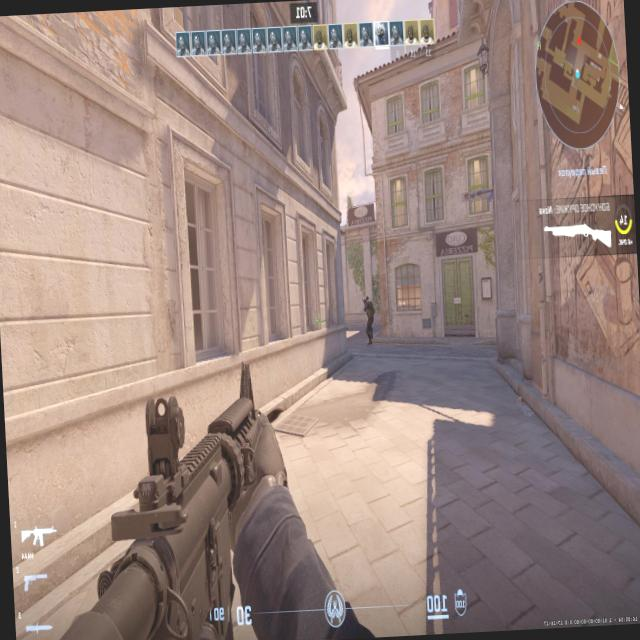CT: (365, 296, 374, 338)
CT_heat: (366, 294, 370, 302)
